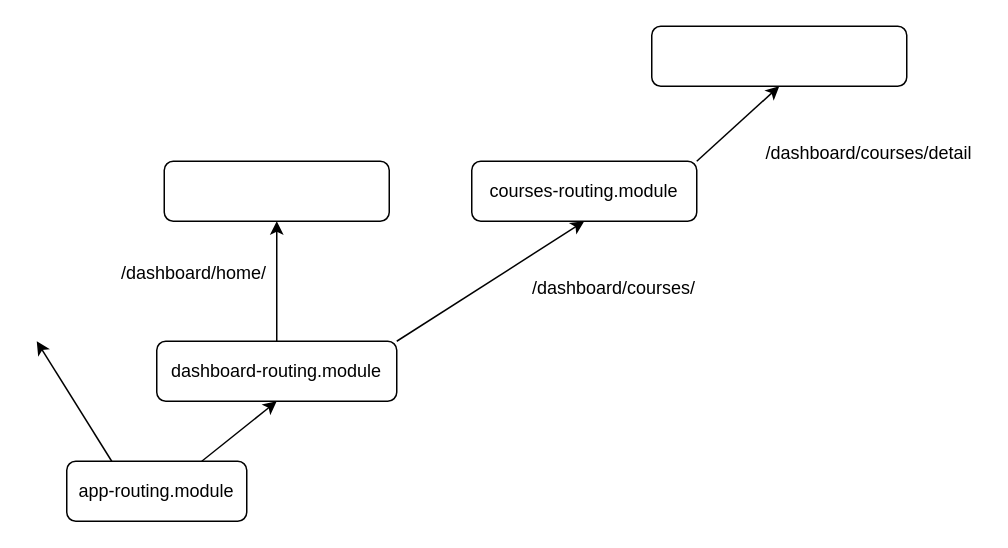
The diagram is 1008 pixels wide and 548 high, and some of its shapes have lost their labels. Here are the shapes that lost their labels. From the top down, the box of each, then its label:
(650, 25, 907, 86): coursesDetail-routing.module
(163, 160, 389, 221): home-routing.module
